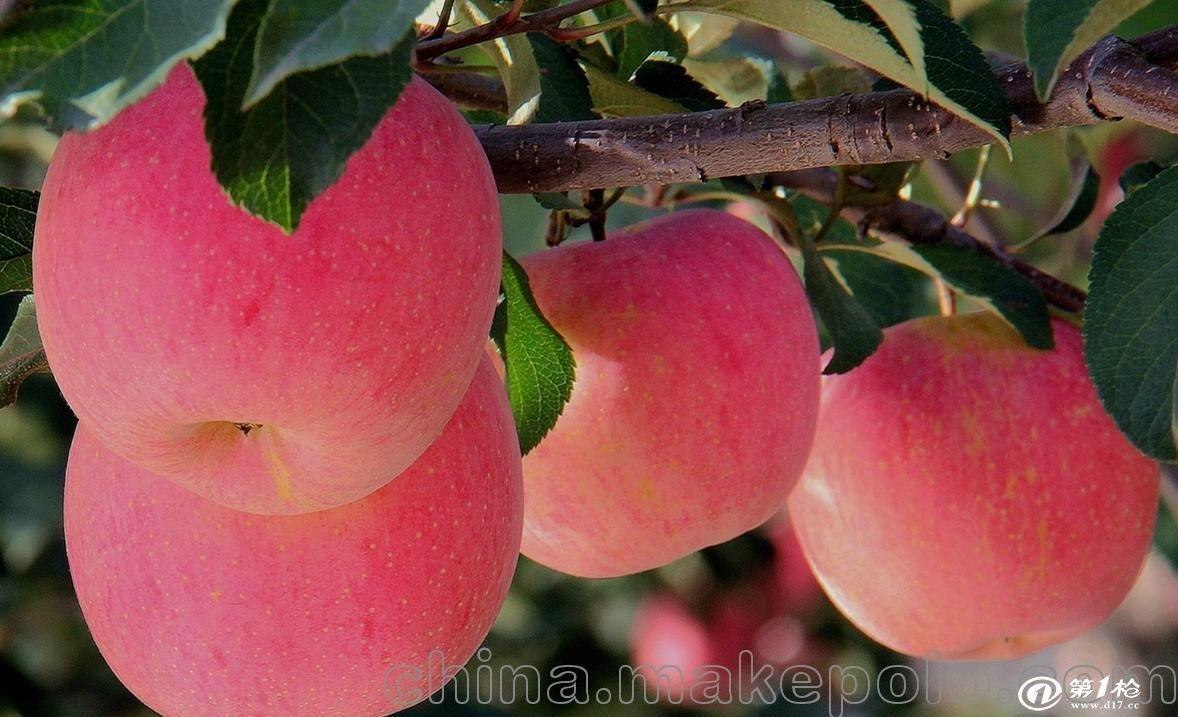apple: (30, 64, 502, 513), (62, 315, 527, 714), (778, 313, 1160, 663), (488, 199, 822, 582)
